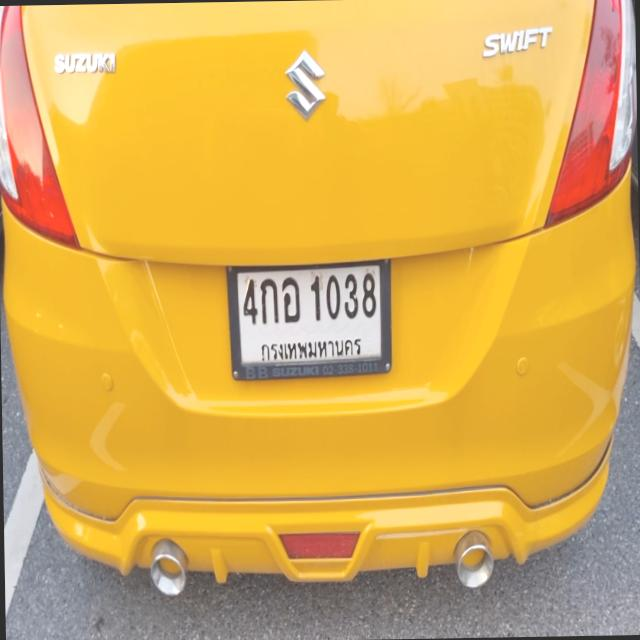license_plate: (224, 254, 394, 378)
